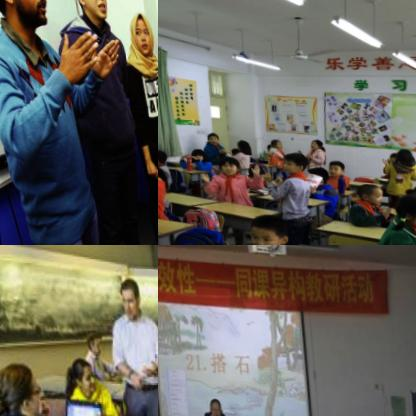head: (0, 356, 41, 416), (234, 207, 283, 245), (0, 0, 47, 35), (62, 351, 92, 393), (126, 8, 153, 54), (387, 188, 416, 226), (113, 275, 139, 317), (348, 176, 381, 204), (67, 0, 109, 19), (277, 150, 304, 173), (80, 325, 99, 354), (243, 160, 266, 183), (213, 152, 237, 174), (302, 164, 323, 182), (322, 157, 344, 174), (203, 394, 219, 415), (392, 145, 413, 160), (185, 146, 205, 161), (262, 135, 280, 150), (303, 136, 319, 149), (231, 137, 246, 150), (202, 130, 216, 143), (409, 178, 416, 198), (158, 149, 164, 163)
